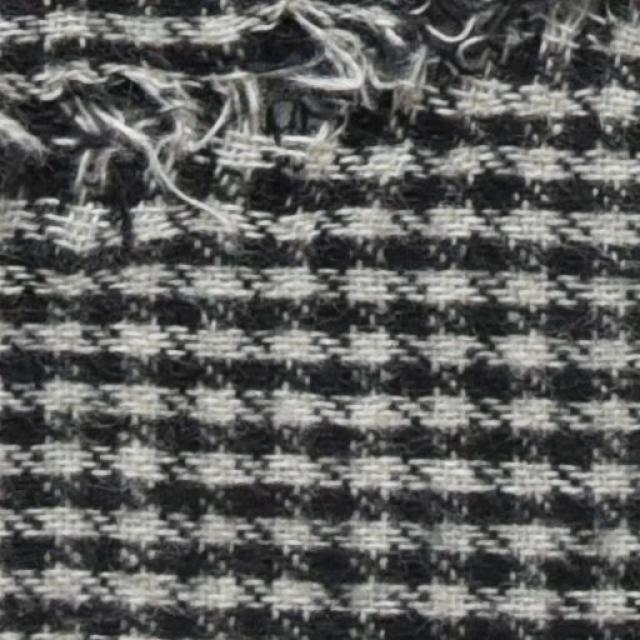Snag: (0, 0, 619, 243)
